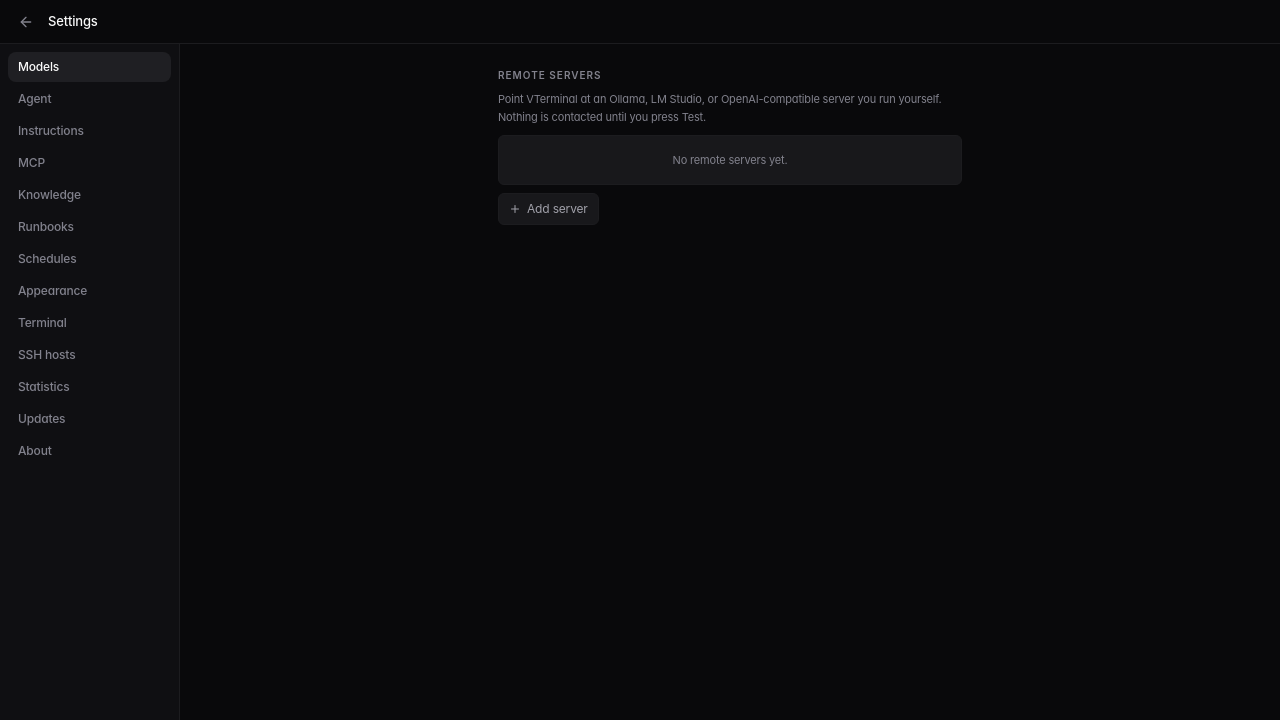
Test: Updates settings › is reachable as its own tab and visibly experimental
What coordinates should you click on to do the following:
click the button "Updates"
I would click on:
 (90, 419)
Its box is [8, 404, 171, 434].
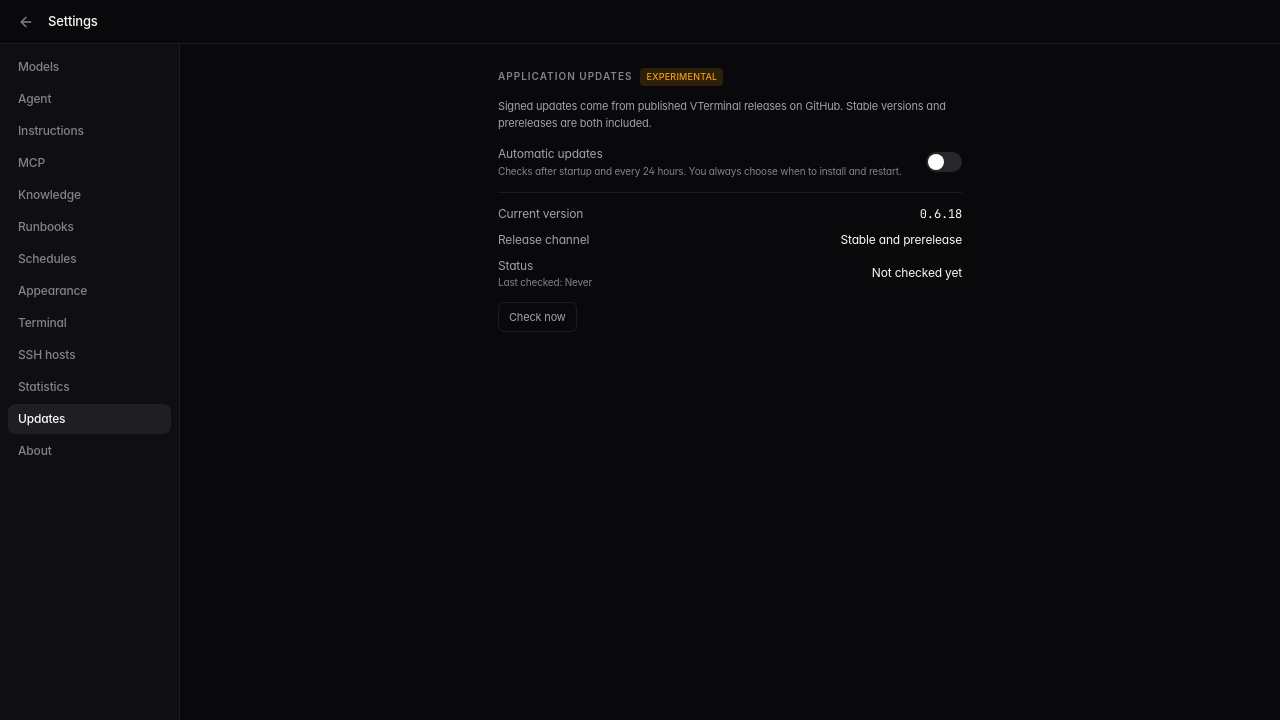
Now the text "Experimental" is shown, box [640, 68, 723, 86]
Now the text "Stable and prerelease" is shown, box [840, 230, 962, 248]
Now the text "0.6.18" is shown, box [920, 204, 962, 222]
